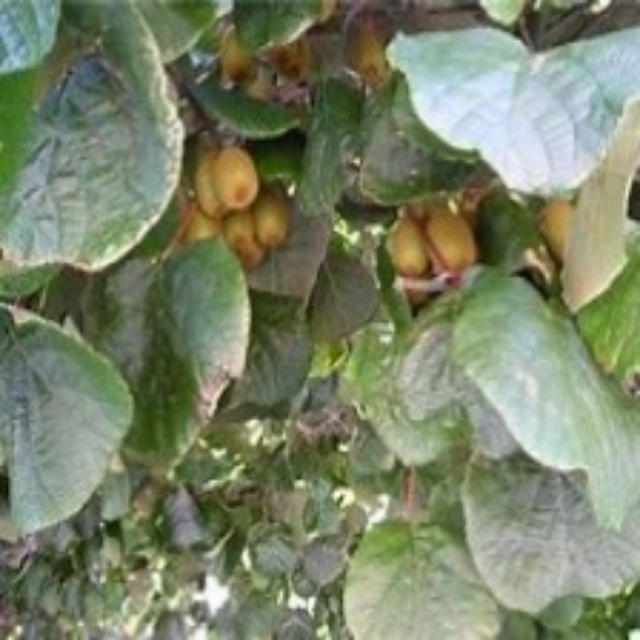kiwi: (391, 203, 485, 298), (216, 187, 290, 264), (179, 147, 254, 217)
